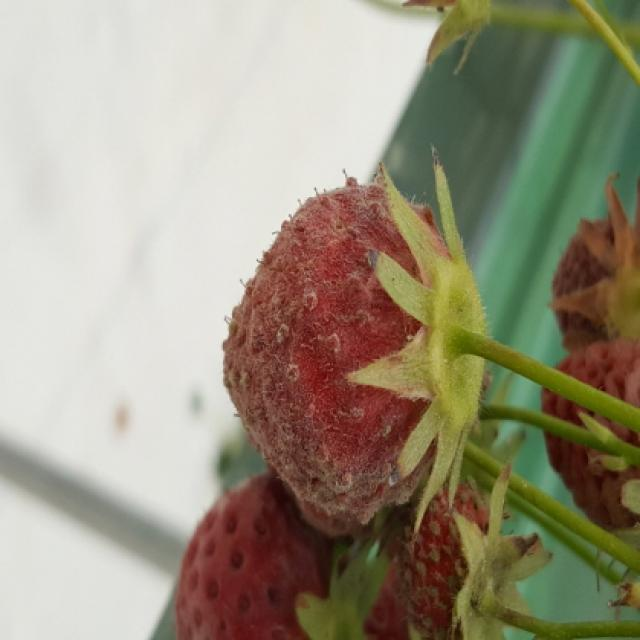Powdery Mildew Fruit: (221, 143, 488, 538), (381, 485, 511, 638)
